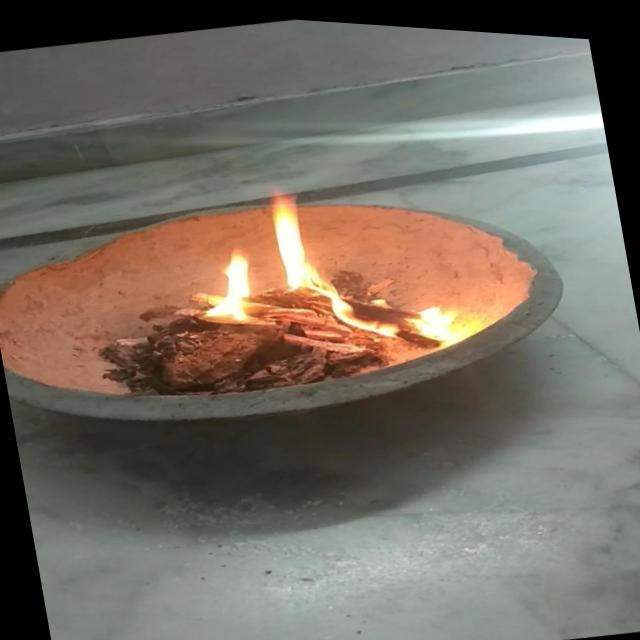fire: (256, 171, 386, 353), (180, 235, 270, 330), (396, 284, 486, 351)
